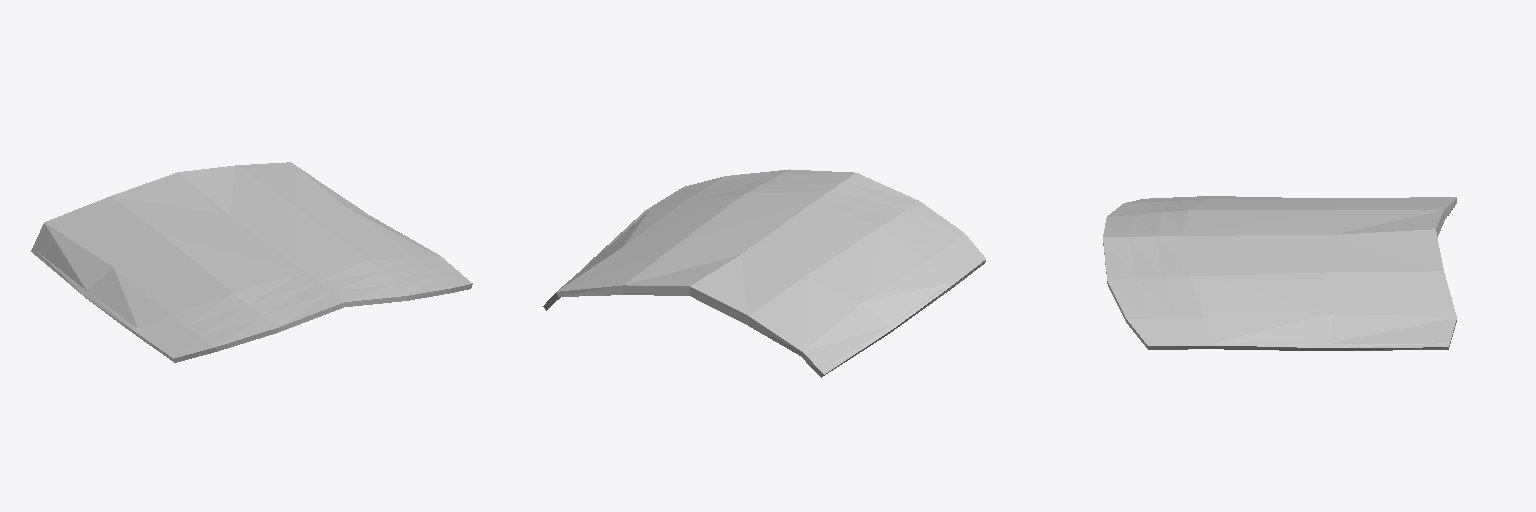
Rendered from PanelCover.obj.
3 renders of one model, left to right at view 1: azimuth 30°, elevation 25°; view 2: azimuth 150°, elevation 25°; view 3: azimuth 270°, elevation 25°, orthographic.
Parts seen in each view (by area): view 1: polySurface8 CockpitCentral polySurface2 newCockpit1:polySurface; view 2: polySurface8 CockpitCentral polySurface2 newCockpit1:polySurface; view 3: polySurface8 CockpitCentral polySurface2 newCockpit1:polySurface.
Boxes of the visible parts, <box> form: polySurface8 CockpitCentral polySurface2 newCockpit1:polySurface: <box>31,162,472,362</box>; polySurface8 CockpitCentral polySurface2 newCockpit1:polySurface: <box>543,169,985,377</box>; polySurface8 CockpitCentral polySurface2 newCockpit1:polySurface: <box>1103,196,1456,350</box>.
Size of the model in its own units: 136 by 22.55 by 135.